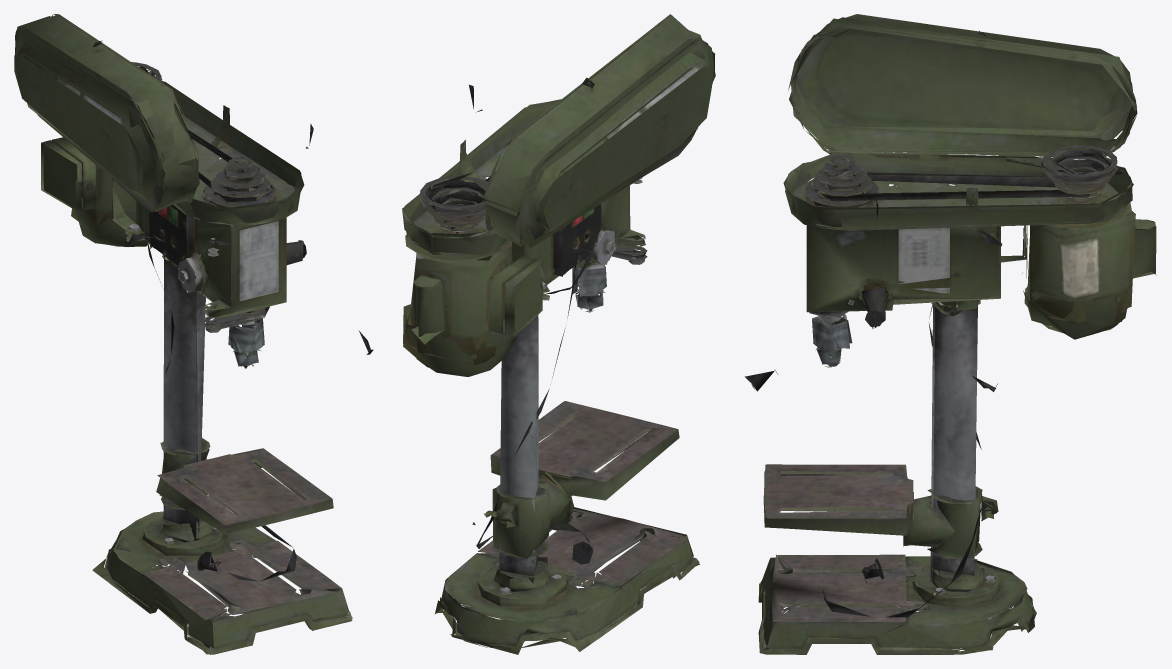
File: ph_drill_press_01.glb
3 renders of one model, left to right at view 1: azimuth 30°, elevation 25°; view 2: azimuth 150°, elevation 25°; view 3: azimuth 270°, elevation 25°, orthographic. The views are drawn at different scales.
Parts seen in each view (by area): view 1: drill_press_01; view 2: drill_press_01; view 3: drill_press_01.
Part boxes in pixels (bbox=[...]): drill_press_01: bbox=[14, 14, 373, 654]; drill_press_01: bbox=[402, 14, 715, 654]; drill_press_01: bbox=[744, 14, 1156, 654].
Size of the model in its own units: 0.3586 by 0.9034 by 0.6068.
Materials: 1 (1 with a texture image).
